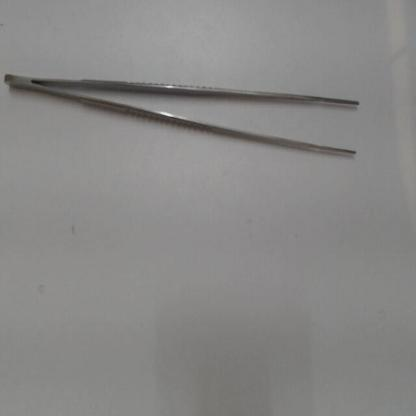DeBakey Dissector: (3, 66, 371, 168)
